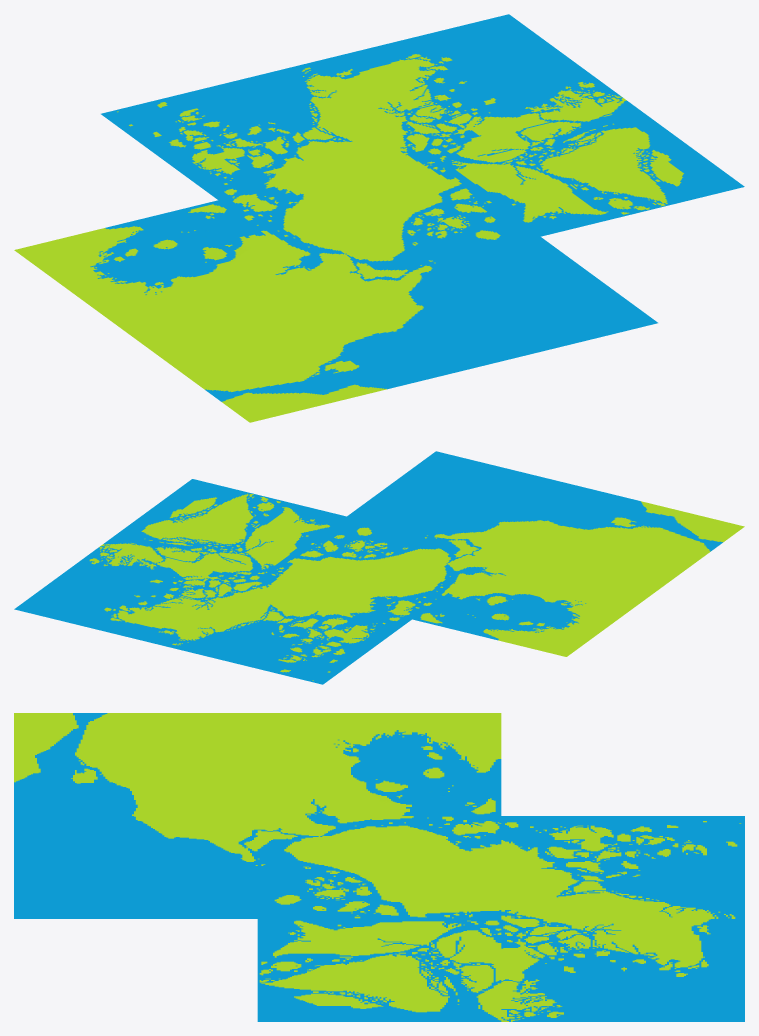
Rendered from mohrtana.glb.
3 views of the same model, one above another, from view 1: azimuth 30°, elevation 25°; view 2: azimuth 150°, elevation 25°; view 3: azimuth 270°, elevation 25° (orthographic). The views are drawn at different scales.
Parts seen in each view (by area): view 1: Plane.002, Plane.004, Plane.001, Plane.005, Plane, Plane.003, Plane.006; view 2: Plane.001, Plane.003, Plane.005, Plane, Plane.002, Plane.004, Plane.006; view 3: Plane.001, Plane.003, Plane.005, Plane, Plane.002, Plane.004, Plane.006.
Boxes of the visible parts, <box> form: Plane.002: <box>101,64,422,199</box>; Plane.004: <box>336,237,657,372</box>; Plane.001: <box>423,100,744,236</box>; Plane.005: <box>14,200,335,336</box>; Plane: <box>305,14,626,150</box>; Plane.003: <box>218,150,540,286</box>; Plane.006: <box>132,286,453,422</box>; Plane.001: <box>103,479,346,581</box>; Plane.003: <box>258,516,500,619</box>; Plane.005: <box>412,554,655,656</box>; Plane: <box>14,544,257,646</box>; Plane.002: <box>169,582,411,684</box>; Plane.004: <box>347,451,589,553</box>; Plane.006: <box>501,489,744,591</box>; Plane.001: <box>257,919,501,1021</box>; Plane.003: <box>257,816,501,918</box>; Plane.005: <box>257,713,501,815</box>; Plane: <box>501,919,744,1021</box>; Plane.002: <box>501,816,744,918</box>; Plane.004: <box>14,816,257,918</box>; Plane.006: <box>14,713,257,815</box>.
Size of what is drawn, in the model's own units: 6 by 0 by 6.
7 materials, 7 textured.
